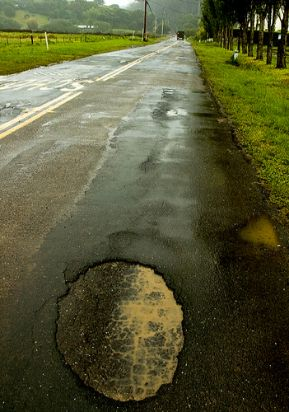pothole: (52, 254, 189, 406)
